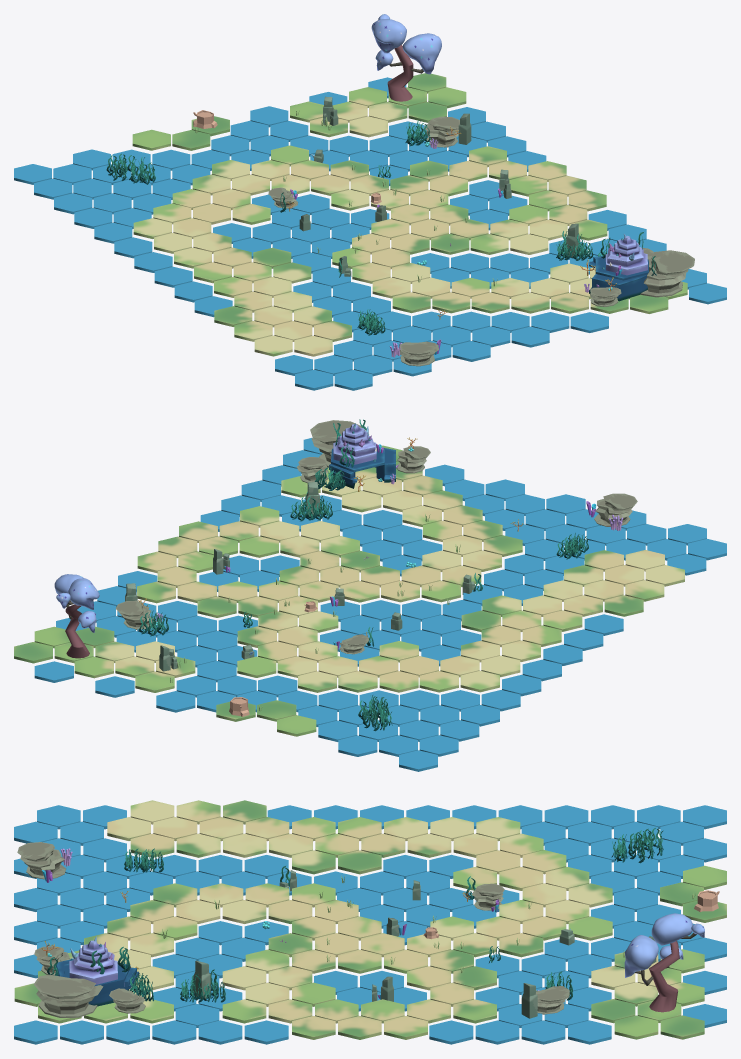
Rendered from Escenario.fbx.
The picture shows the model from 3 angles, top to bottom: view 1: azimuth 30°, elevation 25°; view 2: azimuth 150°, elevation 25°; view 3: azimuth 270°, elevation 25°; orthographic projection. The views are drawn at different scales.
Parts seen in each view (by area): view 1: Tierra, Agua, Arbol001, Coral001, Roca008, Roca, Roca005; view 2: Tierra, Agua, Coral001, Arbol001, Roca005, Roca008, Roca, Roca007, Roca009; view 3: Tierra, Agua, Arbol001, Coral001, Roca008, Roca005, Roca, Roca003, Roca009, Roca007, Roca016, Roca017 (+1 smaller).
Part boxes in pixels (box(x1,y1,x2,y2)): Tierra: box(132, 73, 687, 356); Agua: box(14, 77, 726, 390); Arbol001: box(371, 14, 441, 101); Coral001: box(589, 235, 648, 301); Roca008: box(640, 250, 694, 297); Roca: box(423, 116, 459, 147); Roca005: box(399, 341, 438, 366); Tierra: box(14, 445, 684, 736); Agua: box(34, 437, 726, 771); Coral001: box(329, 424, 395, 488); Arbol001: box(54, 574, 99, 658); Roca005: box(594, 493, 637, 526); Roca008: box(310, 420, 362, 467); Roca: box(115, 600, 156, 629); Roca007: box(397, 446, 430, 473); Roca009: box(297, 457, 327, 482); Tierra: box(14, 800, 726, 1039); Agua: box(14, 805, 726, 1044); Arbol001: box(624, 913, 704, 1012); Coral001: box(56, 940, 138, 1006); Roca008: box(33, 974, 103, 1017); Roca005: box(17, 842, 65, 879); Roca: box(536, 986, 569, 1014); Roca003: box(471, 883, 504, 910); Roca009: box(109, 988, 145, 1013); Roca007: box(34, 946, 70, 975); Roca016: box(521, 983, 537, 1018); Roca017: box(193, 960, 210, 998).
Size of the model in its own units: 5587 by 1045 by 7105.
16 materials, 16 textured.
